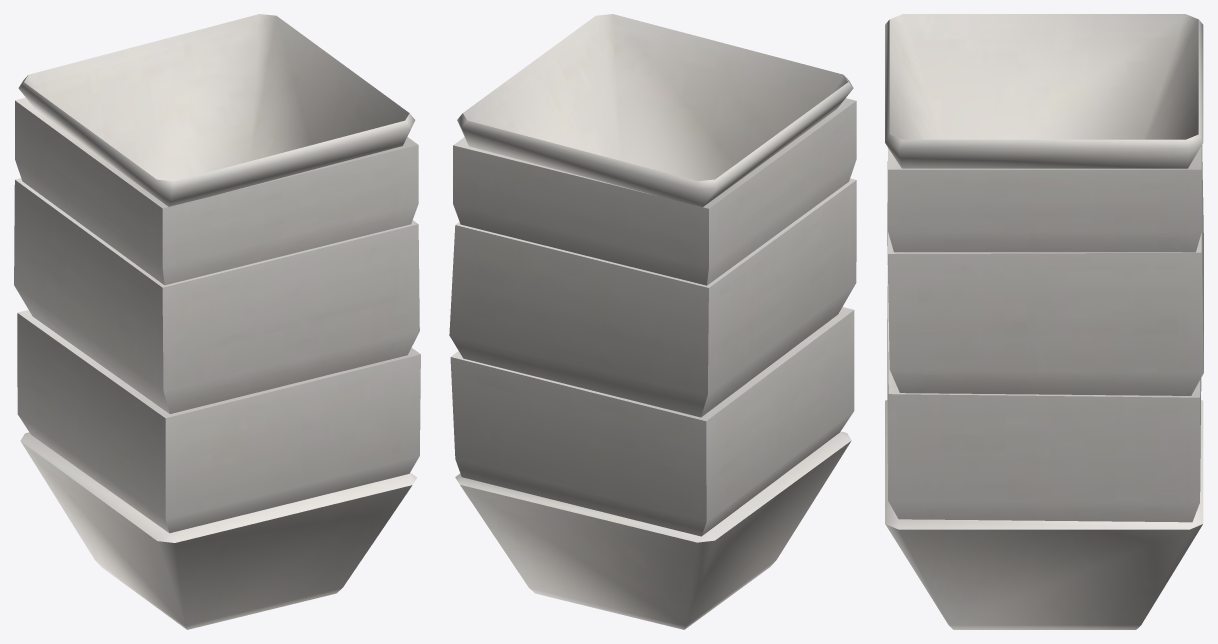
Rendered from T_Kitchen_Bowl_Stack_01.glb.
3 renders of one model, left to right at view 1: azimuth 30°, elevation 25°; view 2: azimuth 150°, elevation 25°; view 3: azimuth 270°, elevation 25°, orthographic. The views are drawn at different scales.
Visible parts, largest first — view 1: T_Kitchen_Bowl_Stack_01; view 2: T_Kitchen_Bowl_Stack_01; view 3: T_Kitchen_Bowl_Stack_01.
Part boxes in pixels (x1=…): T_Kitchen_Bowl_Stack_01: x1=14, y1=14, x2=420, y2=629; T_Kitchen_Bowl_Stack_01: x1=449, y1=14, x2=856, y2=629; T_Kitchen_Bowl_Stack_01: x1=885, y1=14, x2=1203, y2=629.
Size of the model in its own units: 0.1943 by 0.3443 by 0.1929.
Materials: 1 (1 with a texture image).
